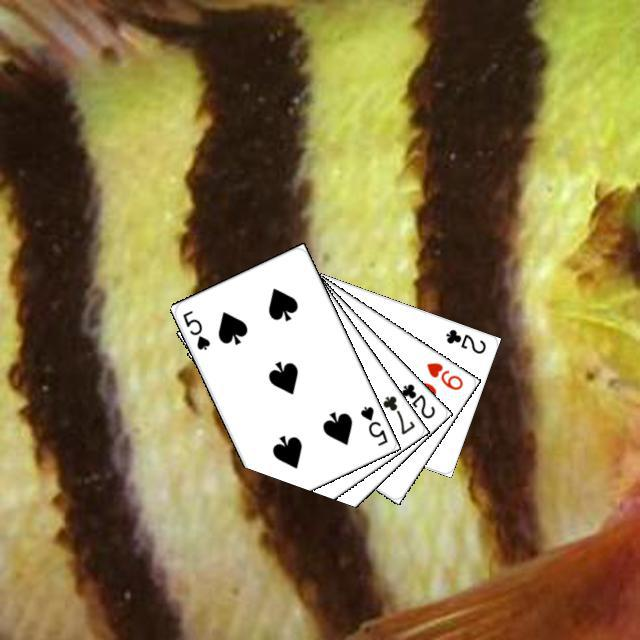2c: (396, 378, 437, 421), (441, 324, 488, 356)
5s: (177, 305, 212, 352), (355, 401, 389, 448)
7c: (377, 390, 417, 436)
9h: (421, 357, 465, 392)
